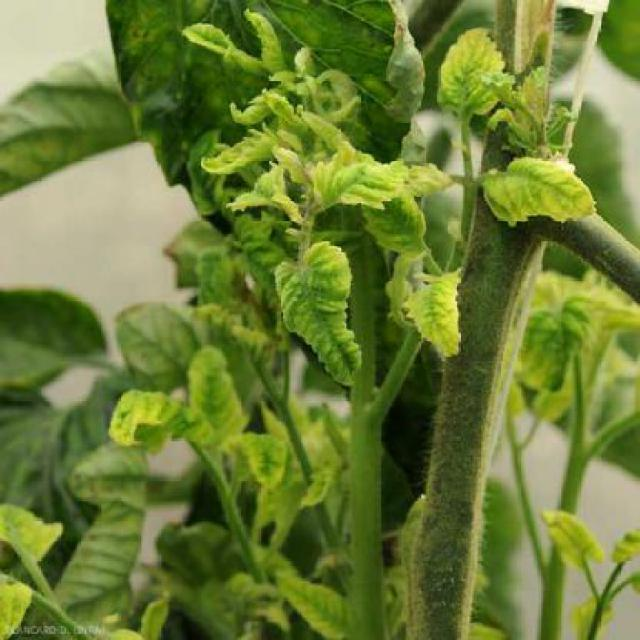Tomato healthy leaf: (276, 223, 378, 391), (400, 242, 474, 392), (483, 144, 599, 224), (322, 157, 446, 228)
